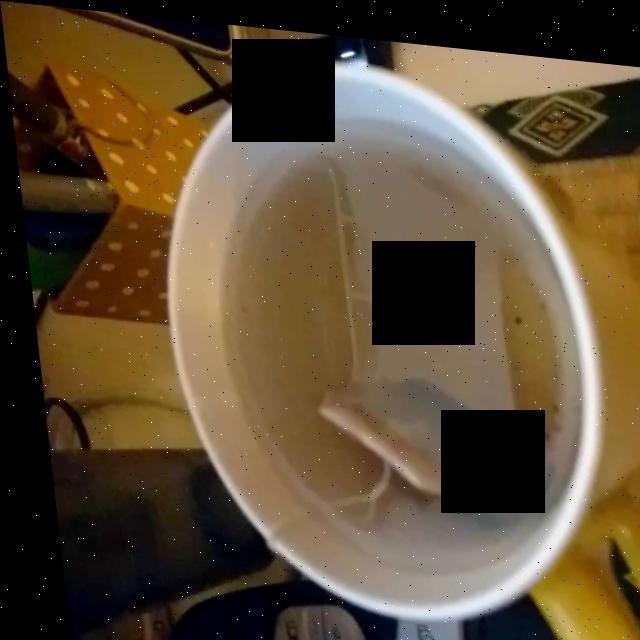tea: (221, 127, 566, 521)
